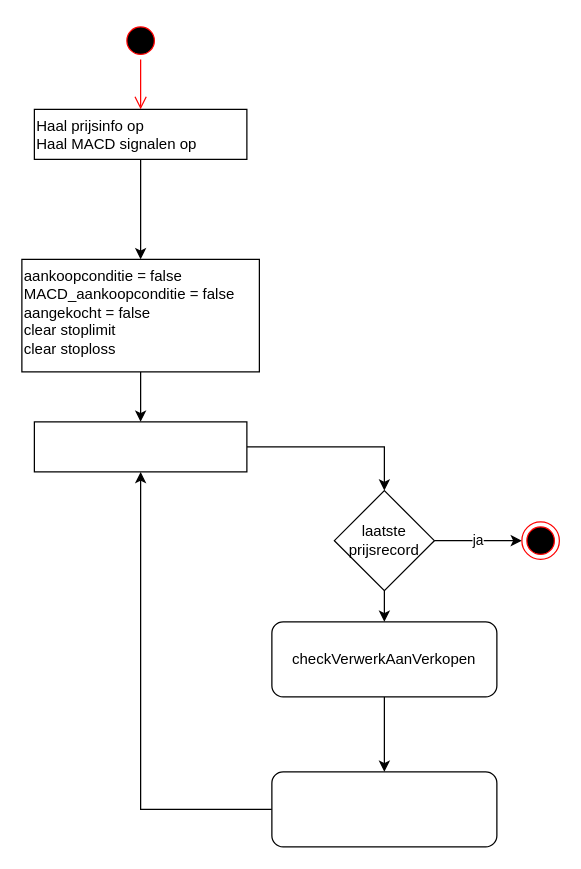
Image size: 581x869. Some labels were removed from this diagram. Here are the shapes that lost their labels. From the top down, the centre of each, then its label:
the point at 140,446: prijsrecord = volgende
the point at 384,809: checkMACDstatus
